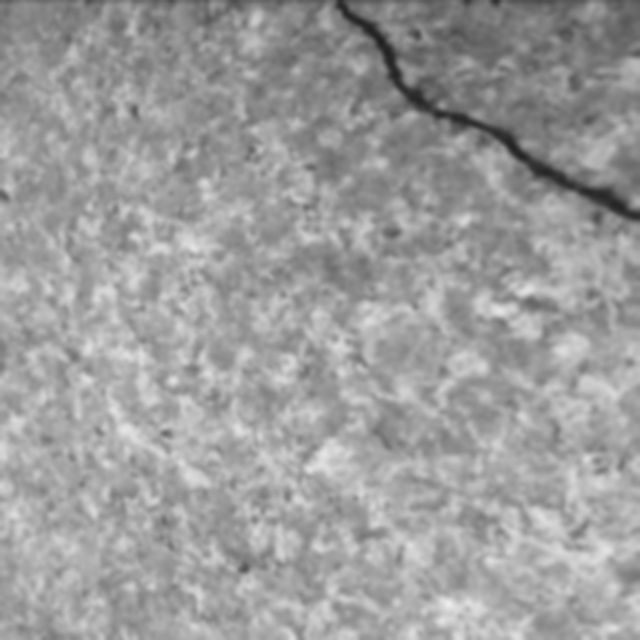SurfaceCrack: (208, 1, 640, 305)
